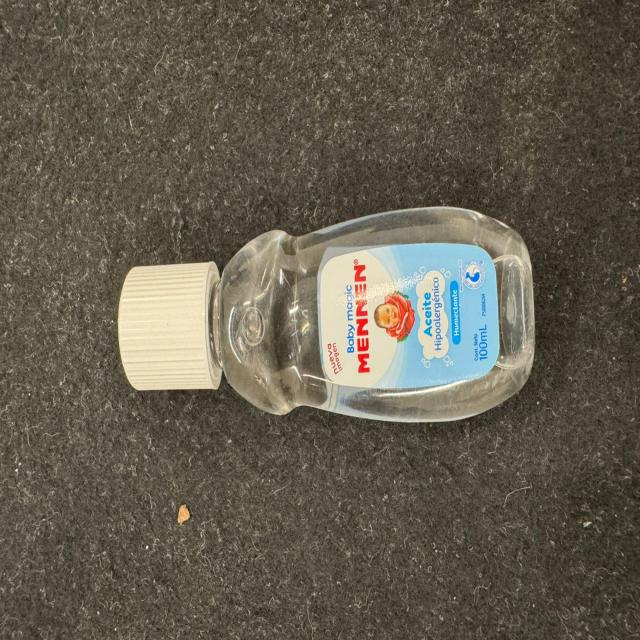Aceite para bebe Baby Magic Mennen 100 ml bote: (117, 205, 536, 424)
